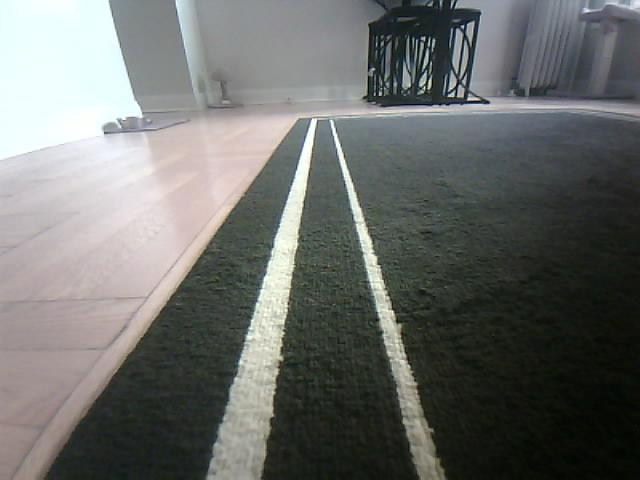road-line: (198, 144, 315, 480), (335, 146, 450, 480)
